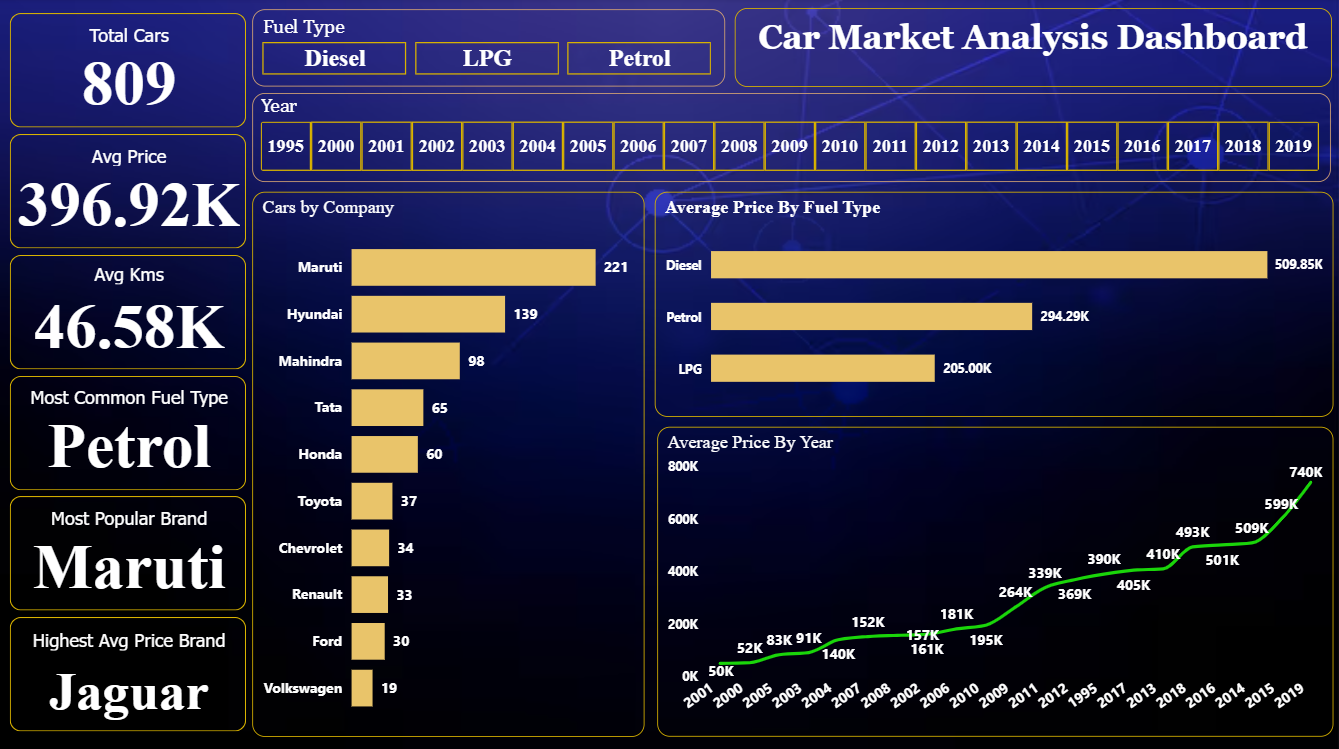

What the dashboard file says about the page in this screenshot:
{"tool":"powerbi","page":{"name":"Dashboard 1","canvas":[1280,720],"ordinal":0},"visuals":[{"type":"textbox","box":[703.6,9.5,569.1,75],"z":0},{"type":"cardVisual","fields":{"Data":["Cars_Dataset_Cleand.Total Cars","Cars_Dataset_Cleand.Avg Price","Cars_Dataset_Cleand.Avg Kms","Cars_Dataset_Cleand.Most Common Fuel Type","Cars_Dataset_Cleand.Most Popular Brand","Cars_Dataset_Cleand.Highest Avg Price Brand"]},"box":[8.3,9.5,235.7,694.1],"z":1000},{"type":"barChart","title":"Cars by Company","fields":{"Category":["Cars_Dataset_Cleand.company"],"Y":["CountNonNull(Cars_Dataset_Cleand.name)"]},"box":[244,184.5,373.8,519.1],"z":2000},{"type":"clusteredBarChart","title":"Average Price By Fuel Type","fields":{"Y":["Avg(Cars_Dataset_Cleand.Price)"],"Category":["Cars_Dataset_Cleand.fuel_type"]},"box":[627.4,184.5,646.4,214.3],"z":3000},{"type":"advancedSlicerVisual","title":"Fuel Type","fields":{"Values":["Cars_Dataset_Cleand.fuel_type"]},"box":[244,10.7,450,73.8],"z":4000},{"type":"advancedSlicerVisual","title":"Year","fields":{"Values":["Cars_Dataset_Cleand.year"]},"box":[252.4,84.5,1027.4,84.5],"z":5000},{"type":"lineChart","title":"Average Price By Year","fields":{"Y":["Avg(Cars_Dataset_Cleand.Price)"],"Category":["Cars_Dataset_Cleand.year"]},"box":[629.8,408.3,644.1,295.2],"z":6000}]}

Visuals, with their boxes in screenshot pixels (x1, y1, x2, y2), scaled from the page's 1280x720 canvas onto the 1339x749 screenshot:
textbox: bbox=(736, 10, 1331, 88)
cardVisual - Cars_Dataset_Cleand.Total Cars x Cars_Dataset_Cleand.Avg Price: bbox=(9, 10, 255, 732)
"Cars by Company" barChart: bbox=(255, 192, 646, 732)
"Average Price By Fuel Type" clusteredBarChart: bbox=(656, 192, 1333, 415)
"Fuel Type" advancedSlicerVisual: bbox=(255, 11, 726, 88)
"Year" advancedSlicerVisual: bbox=(264, 88, 1338, 176)
"Average Price By Year" lineChart: bbox=(659, 425, 1333, 732)
